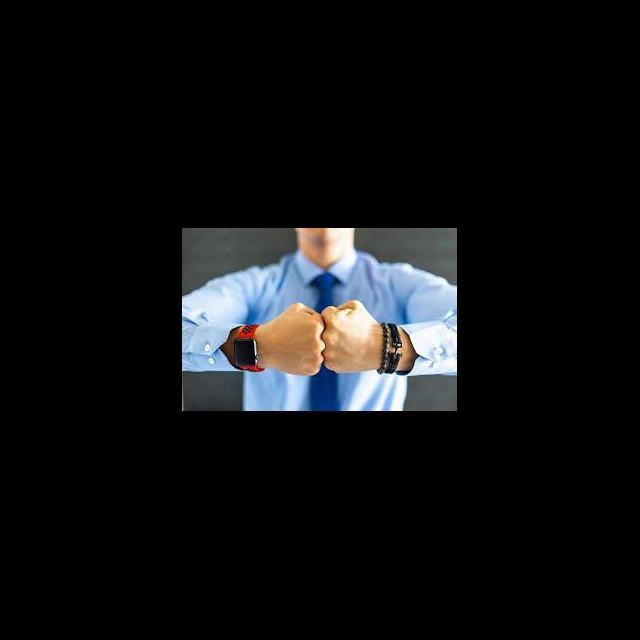watch: (223, 318, 270, 385)
